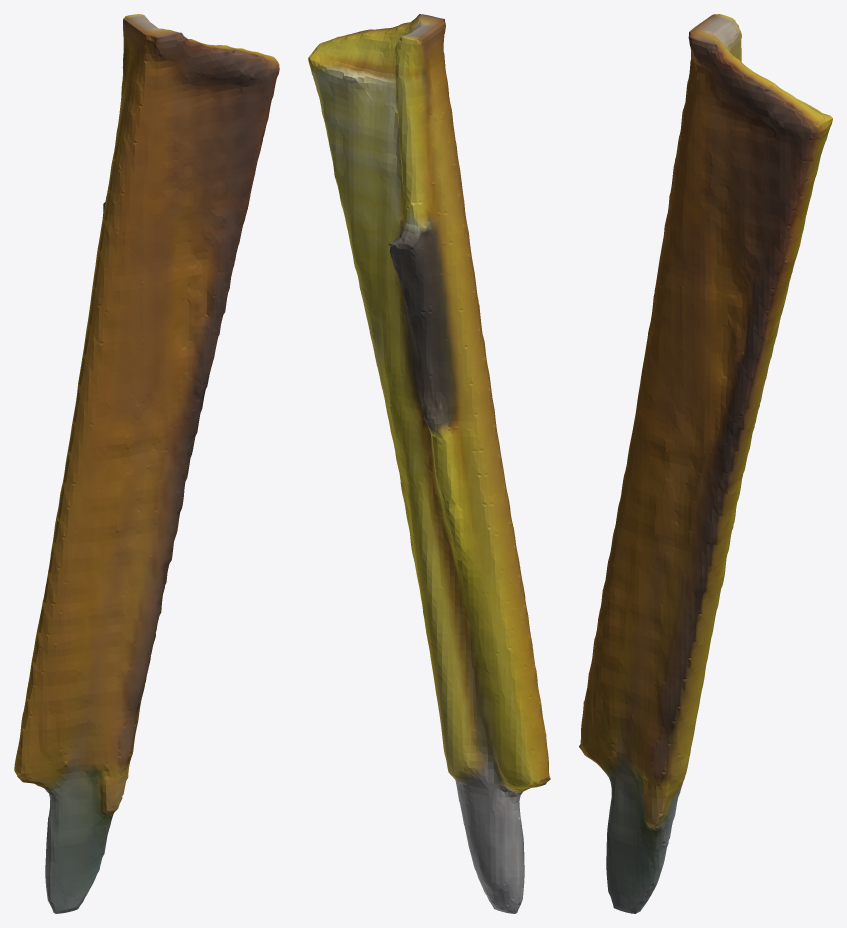
Rendered from obj3_scaled_obb.glb.
3 views of the same model, side by side, from view 1: azimuth 30°, elevation 25°; view 2: azimuth 150°, elevation 25°; view 3: azimuth 330°, elevation 25° (orthographic). The views are drawn at different scales.
Visible parts, largest first — view 1: world; view 2: world; view 3: world.
Part boxes in pixels (x1,y1,x2,y2): world: [14, 14, 279, 913]; world: [308, 14, 550, 913]; world: [579, 14, 832, 913].
Size of the model in its own units: 0.0455 by 0.1526 by 0.016.
